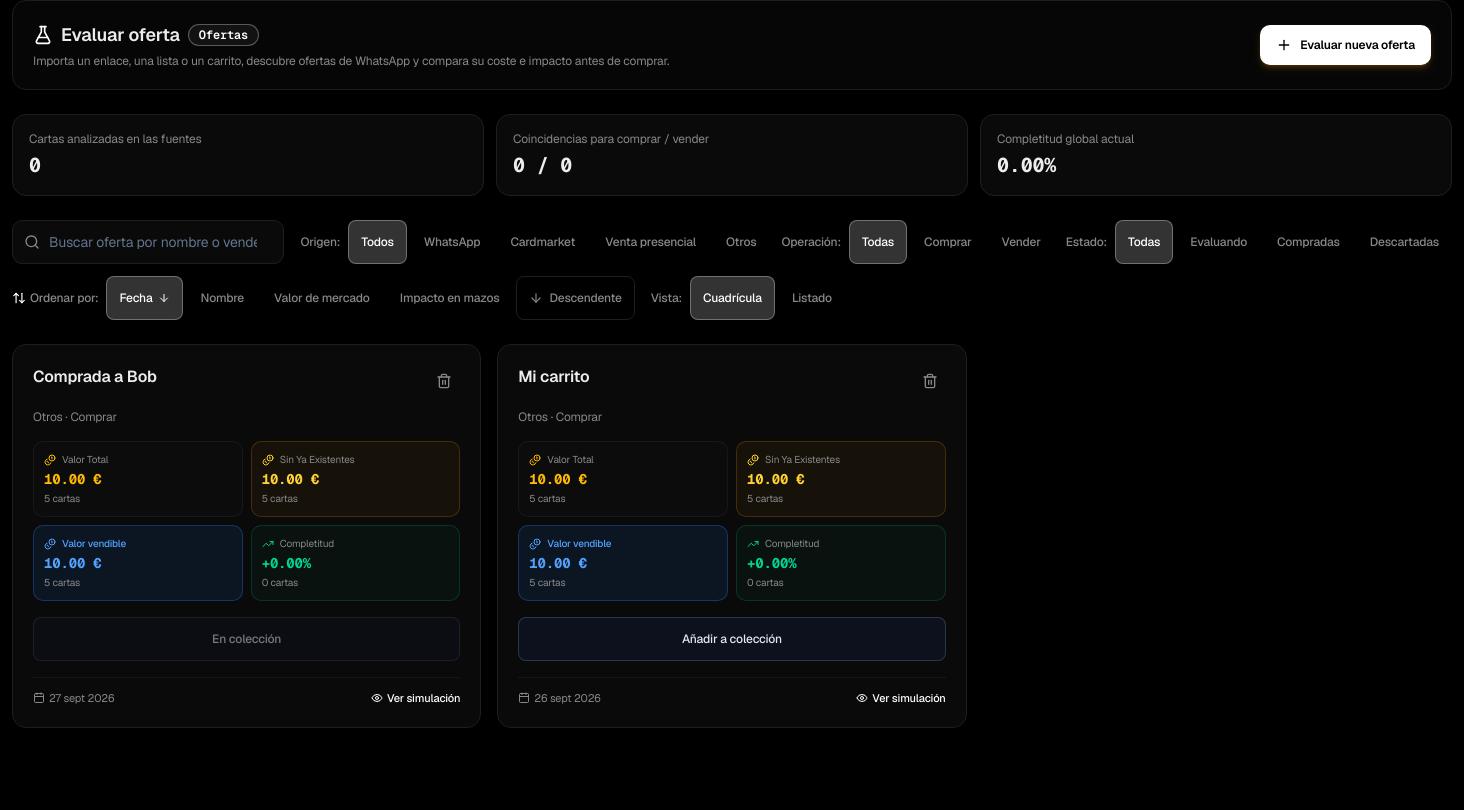
Scenario: keeps saved offers searchable, filters their status and keeps controls in empty results
Expected: the heading "Comprada a Bob" is shown, 33,365 -> 157,389
Click the button "Compradas" at {"x": 1308, "y": 242}, box 1264,220 -> 1353,264
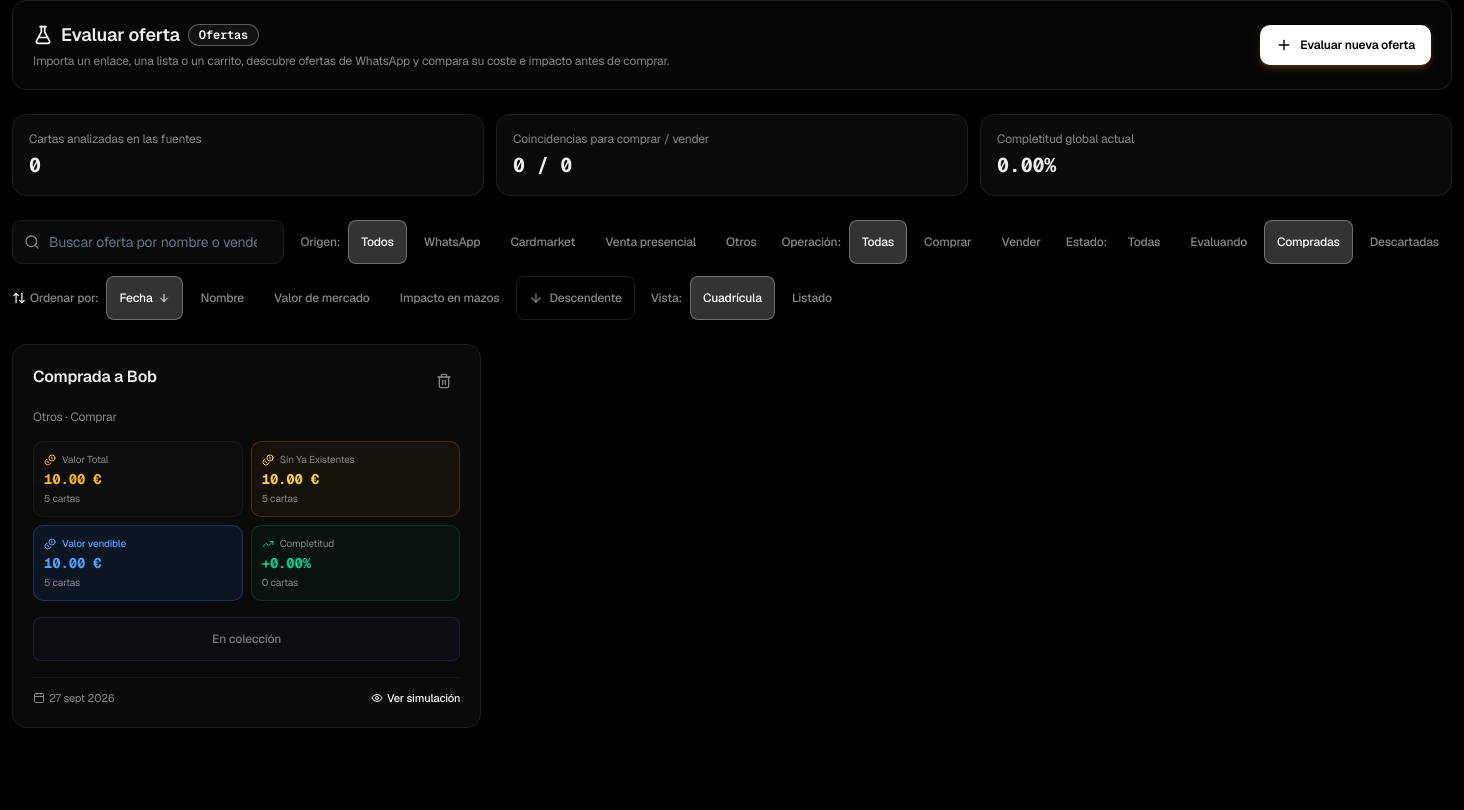
Expected: the heading "Comprada a Bob" is shown, 33,365 -> 157,389
Expected: the button "Mi carrito" is gone
Type "unknown" into the search field at {"x": 148, "y": 242}, box 12,220 -> 284,264
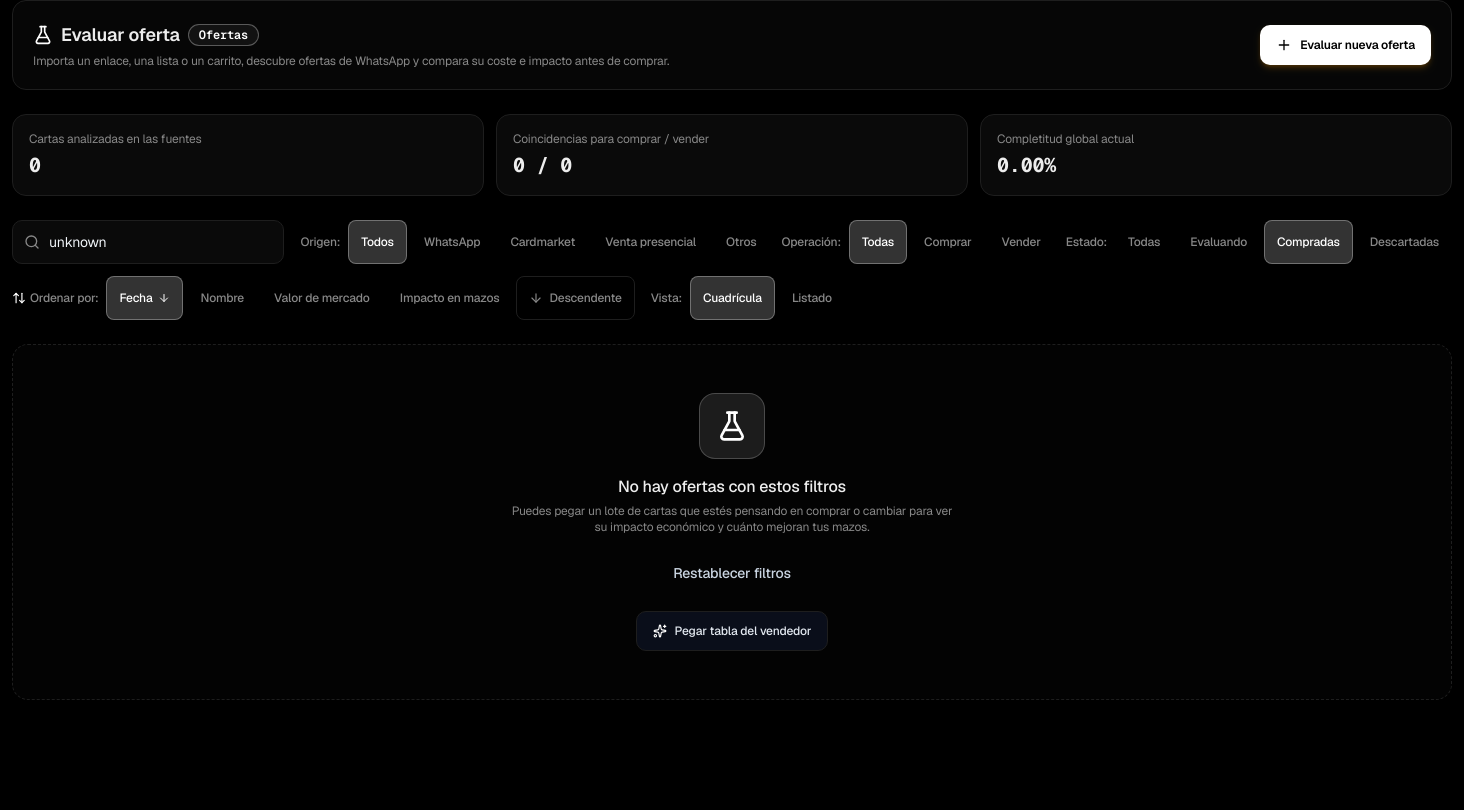
Expected: the button "Nombre" is shown, 188,276 -> 257,320
Expected: the heading "No hay ofertas con estos filtros" is shown, 618,476 -> 846,497
Click the button "Restablecer filtros" at {"x": 732, "y": 573}, box 657,551 -> 807,595
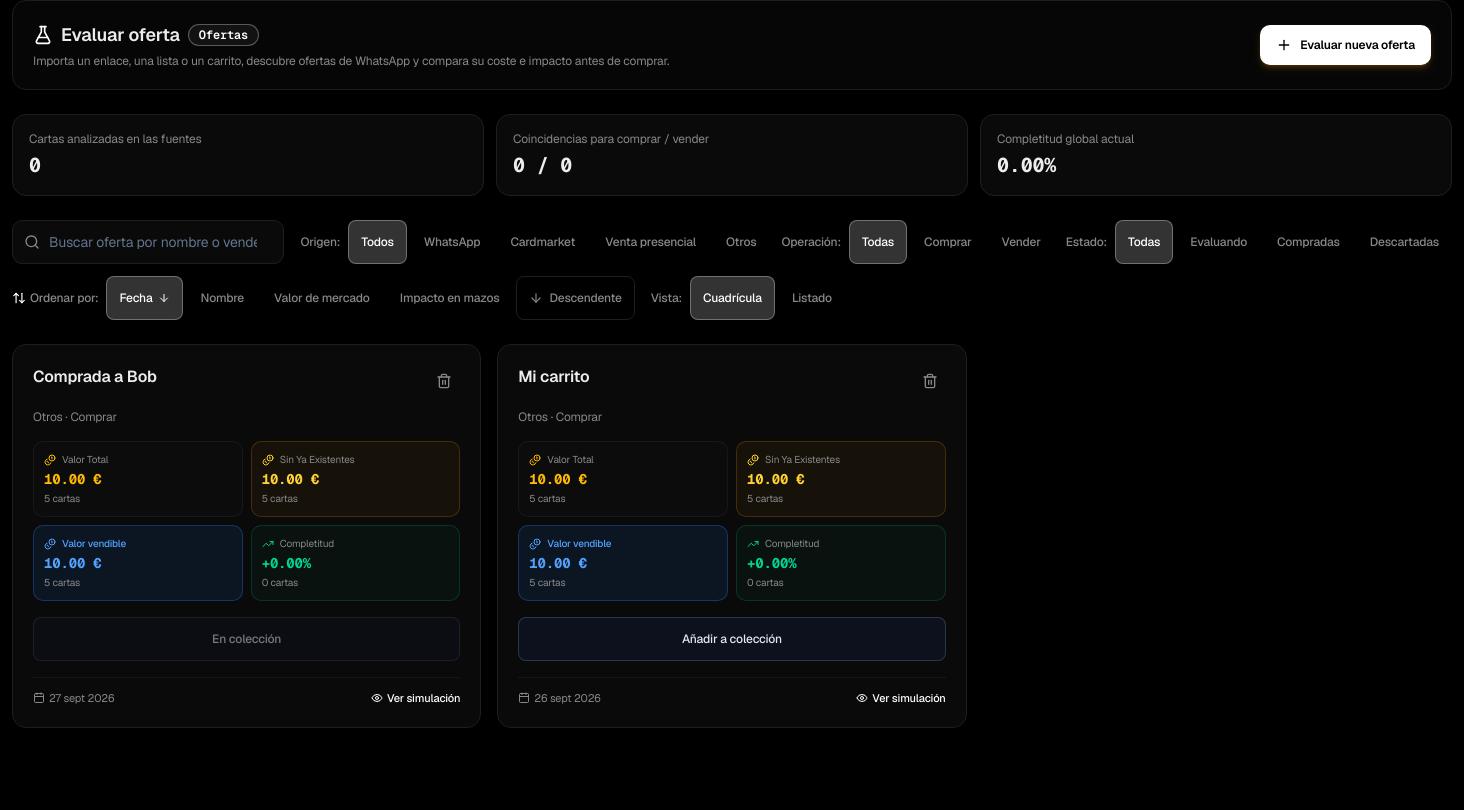
Expected: the heading "Mi carrito" is shown, 518,365 -> 590,389
Expected: the heading "Comprada a Bob" is shown, 33,365 -> 157,389
